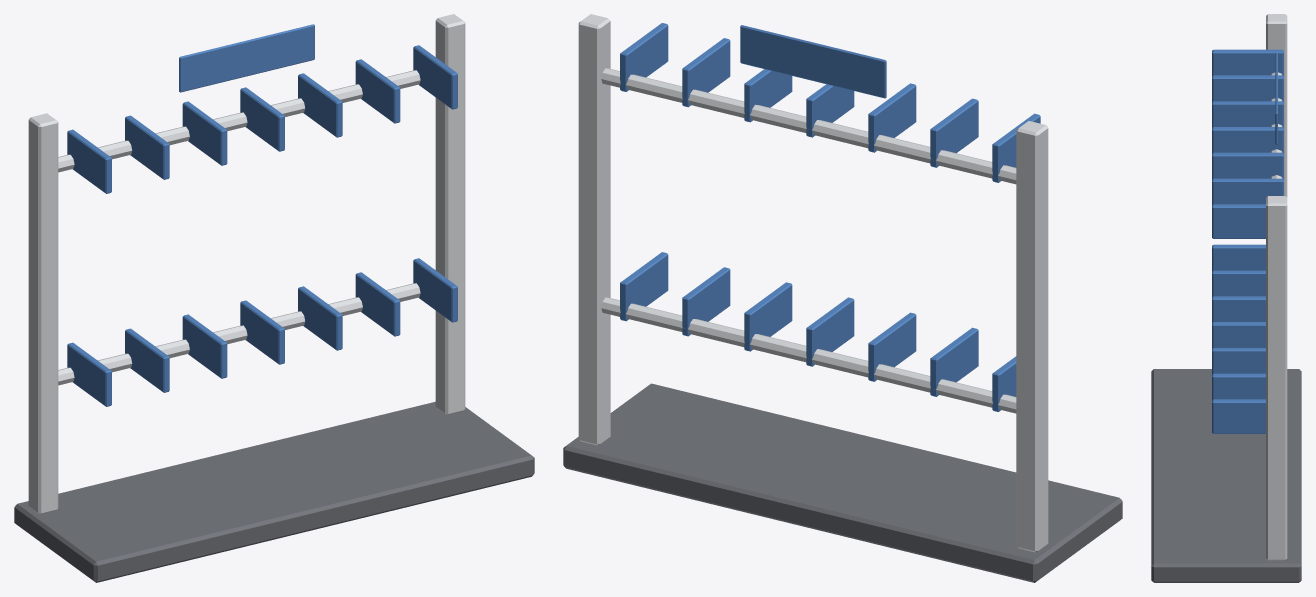
Rendered from ice-hockey-arena-and-locker-room-stick-rack-e3e1e7ee__33731.glb.
3 renders of one model, left to right at view 1: azimuth 30°, elevation 25°; view 2: azimuth 150°, elevation 25°; view 3: azimuth 270°, elevation 25°, orthographic. The views are drawn at different scales.
Parts seen in each view (by area): view 1: stick-rack; view 2: stick-rack; view 3: stick-rack.
Boxes of the visible parts, x1,y1,x2,y2 form: stick-rack: (14,14,534,582); stick-rack: (563,14,1122,582); stick-rack: (1151,14,1301,582).
Bounding box in the file's own units: 1.3 × 1.24 × 0.4199.
